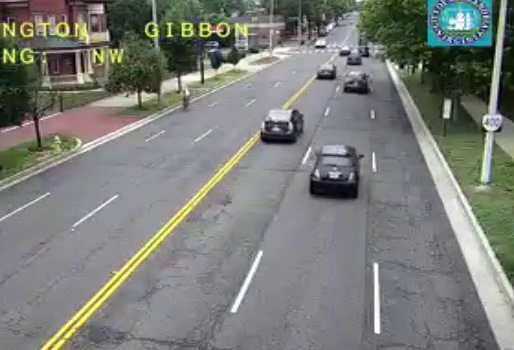car: (309, 144, 360, 189), (260, 109, 303, 139), (343, 72, 368, 93), (317, 64, 335, 78)
